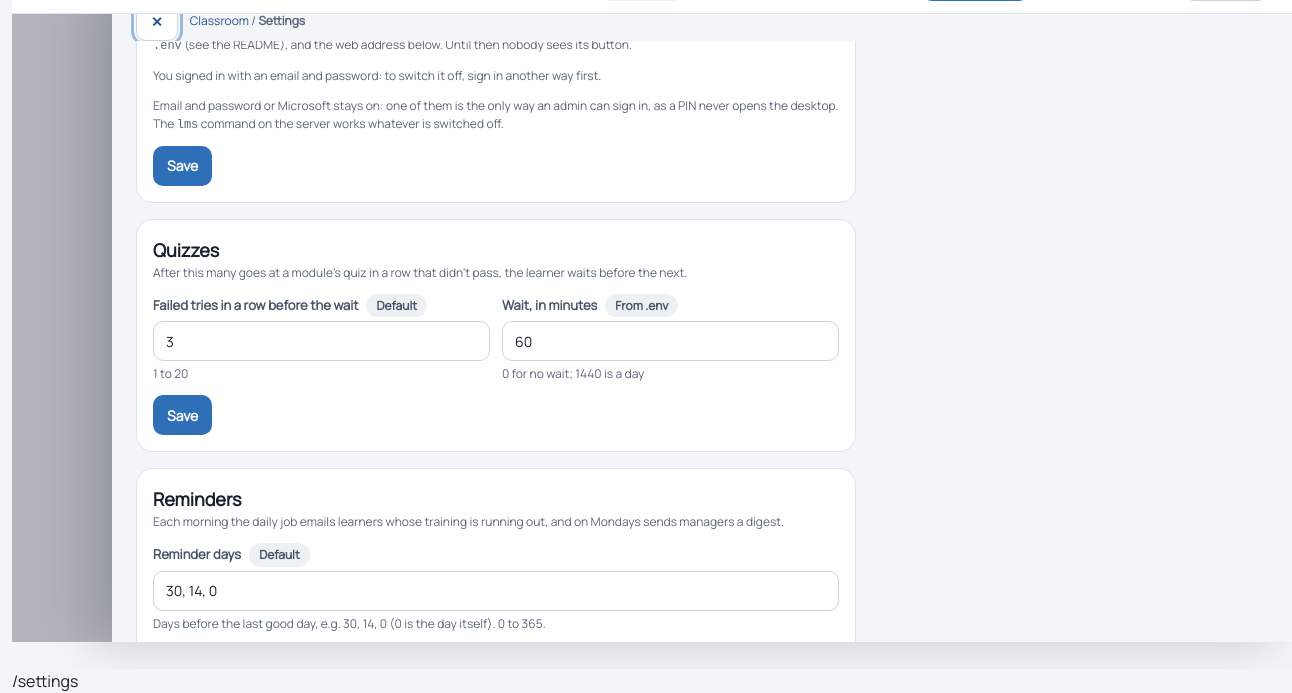
Test: settings › saves a section's changes, and only those
(page scrolled)
Replace the text in the number field labelled "Failed tries in a row before the wait" with "5" at (322, 341), box [153,321,490,361]
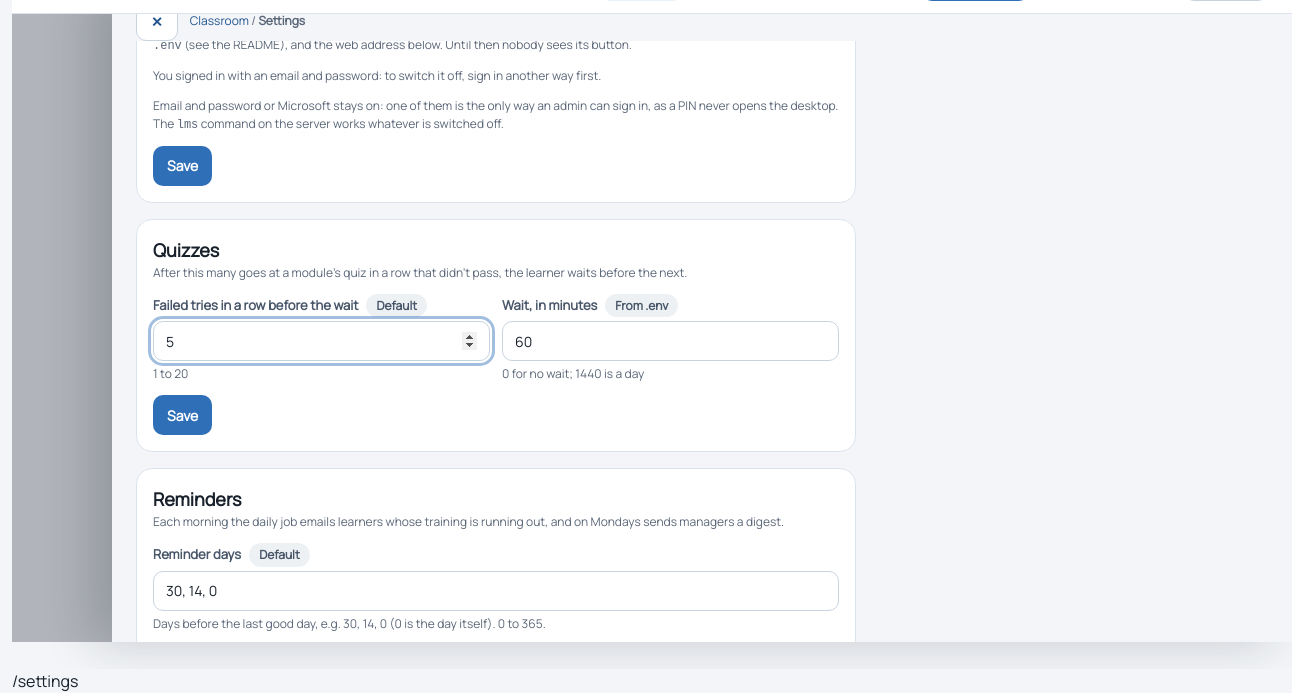
Click the button "Save" below "1 to 20" at (183, 415), box [153,395,212,435]
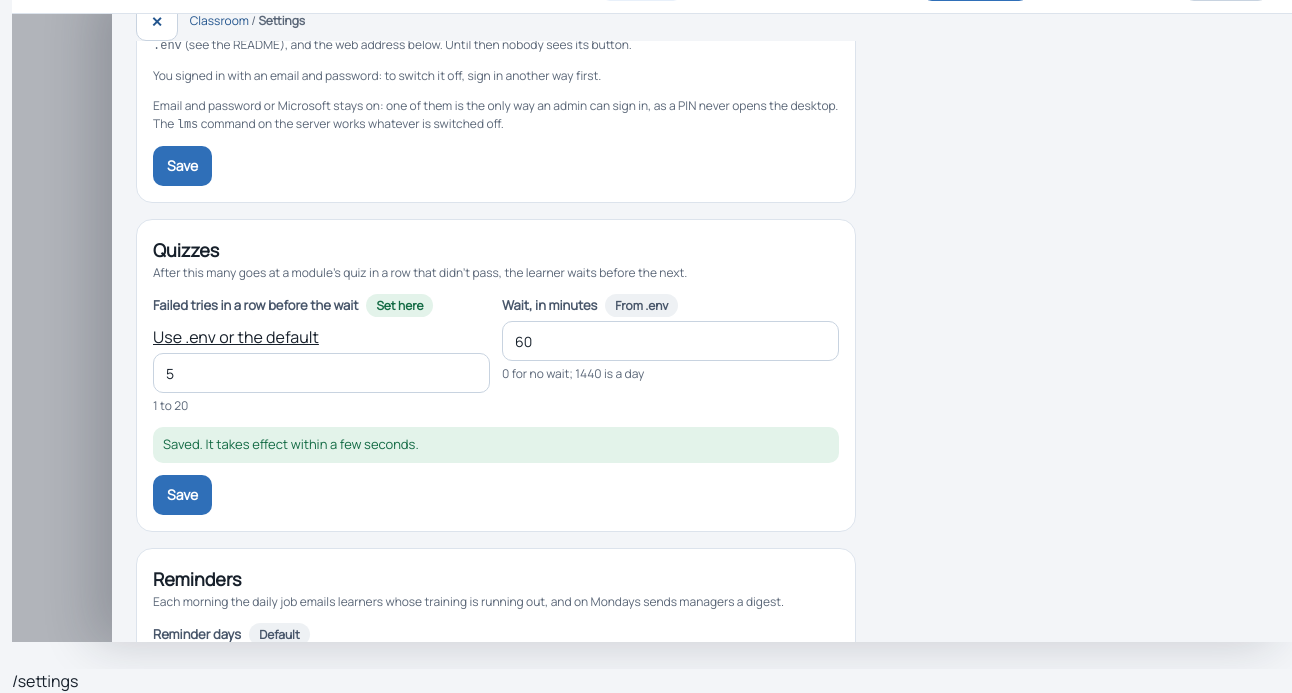
Expected: the text "Set here" is shown once, [366,294,434,317]
Now the message shows "Saved.", box [163,435,419,453]
